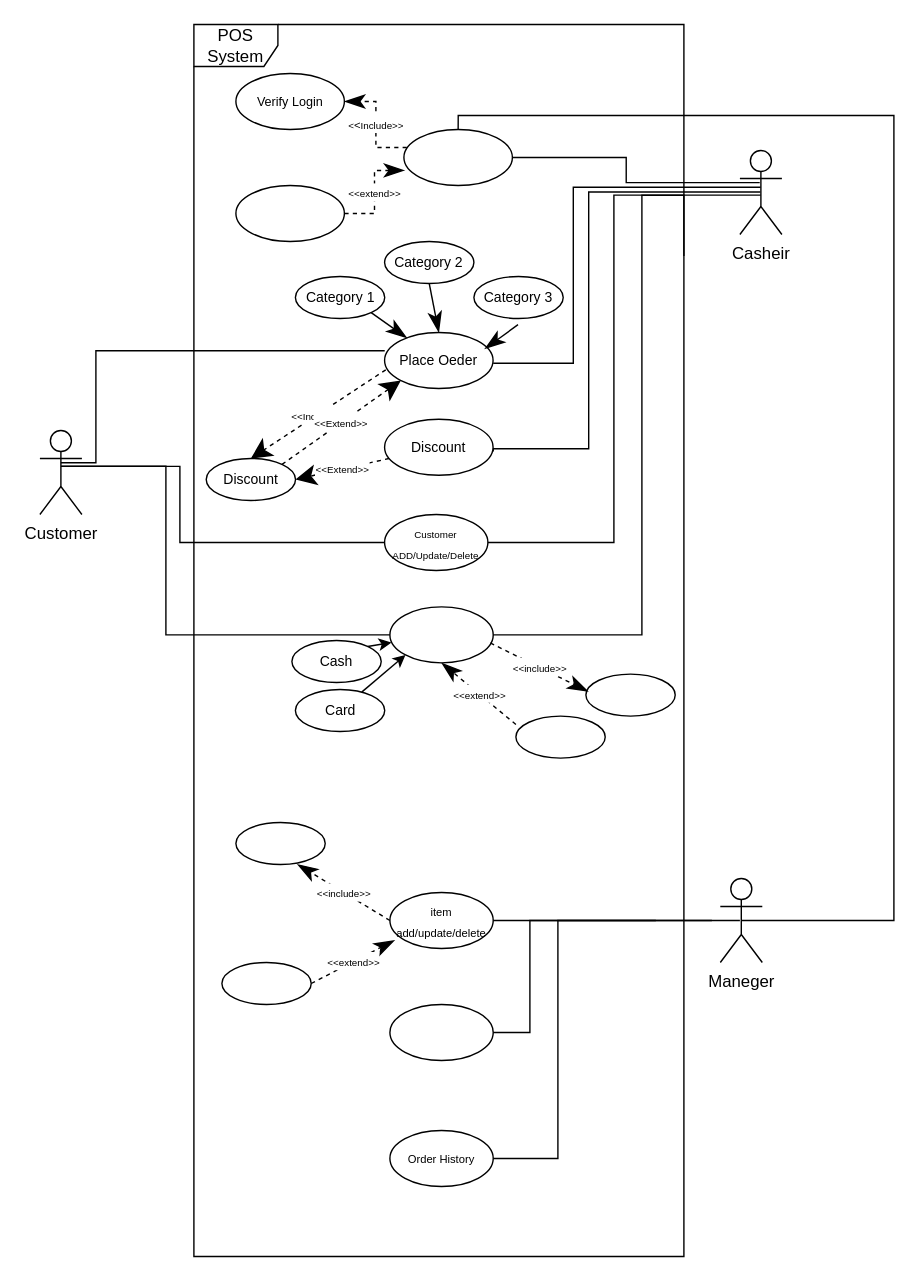
Some shapes in this 920 by 1281 pixel diagram are drawn without their labels. The centre of each missing label's shape, as x and y in pixels:
Chekout: the point at 440,634
Custmer History: the point at 440,1031
Display Login Error: the point at 289,212
exp alat message: the point at 265,982
exp date: the point at 279,842
Login: the point at 457,157
print bill: the point at 559,736
process bill: the point at 629,694
